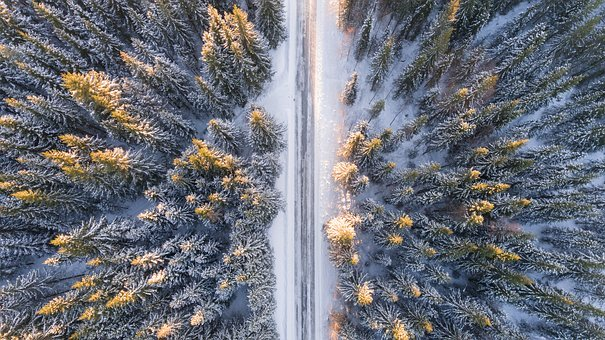forest: (2, 8, 276, 340), (331, 5, 604, 337)
